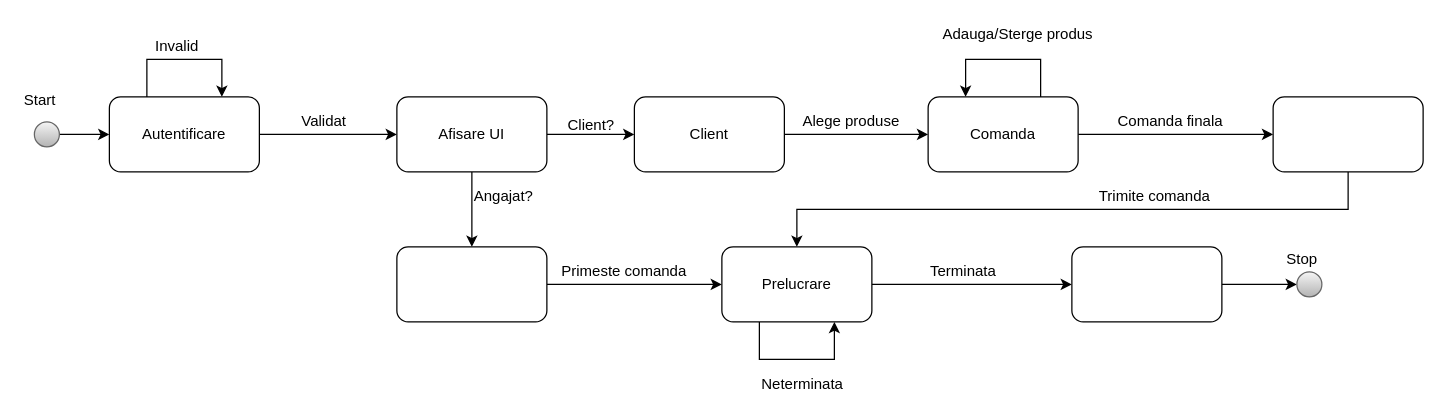
The diagram is 1445 pixels wide and 418 high, and some of its shapes have lost their labels. The shapes that lost their labels are listed below. From the top down, each one's centre as x and y in pixels, then its label:
At point (1347, 134): "Plateste".
At point (471, 284): "Angajat".
At point (1146, 284): "Finalizare".
